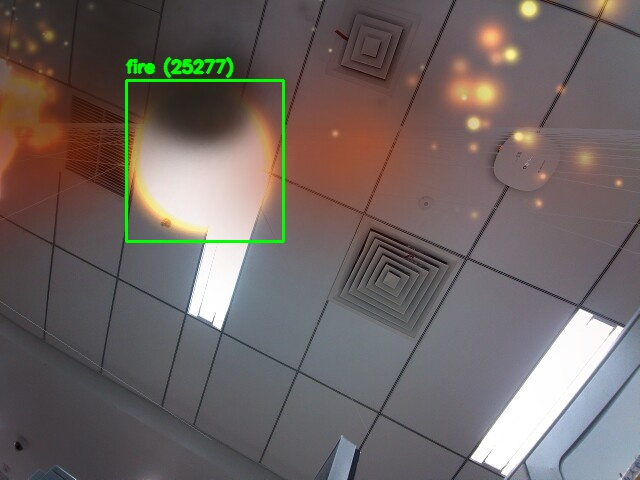fire: (126, 80, 283, 241)
